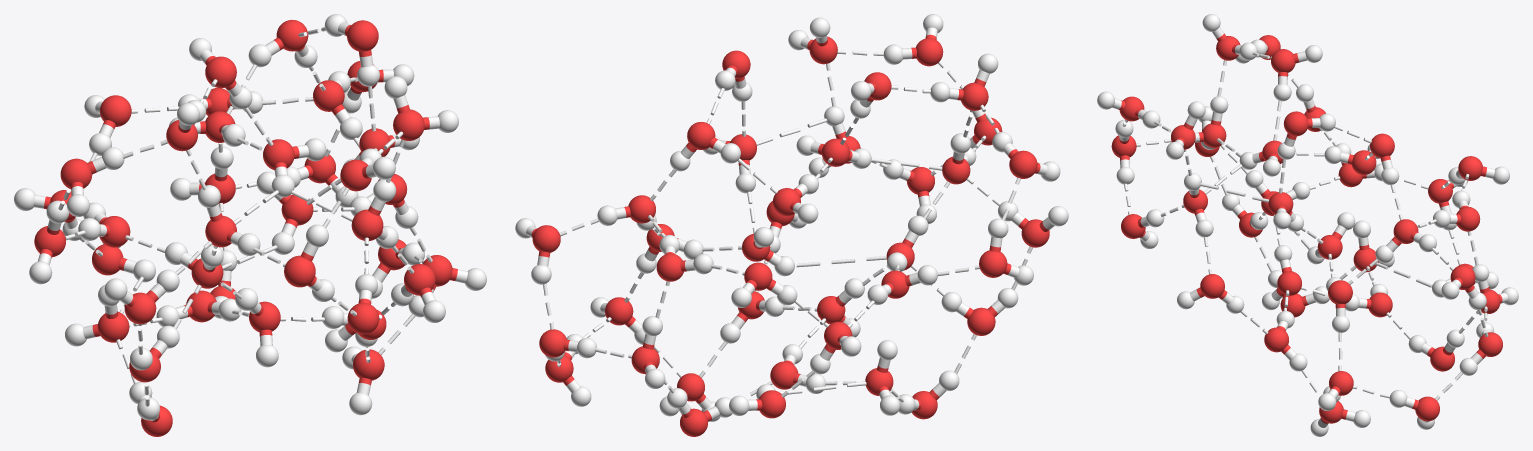
Rendered from Lop10_CarbonVaNuoc_Tab3_structure_of_liquid_water.glb.
The picture shows the model from 3 angles, left to right: view 1: azimuth 30°, elevation 25°; view 2: azimuth 150°, elevation 25°; view 3: azimuth 270°, elevation 25°; orthographic projection. The views are drawn at different scales.
Parts seen in each view (by area): view 1: waterl_0; view 2: waterl_0; view 3: waterl_0.
Part boxes in pixels (bbox=[...]): waterl_0: bbox=[14, 14, 486, 436]; waterl_0: bbox=[515, 14, 1068, 436]; waterl_0: bbox=[1097, 14, 1518, 436].
Bounding box in the file's own units: 13.28 × 11.09 × 12.88.
